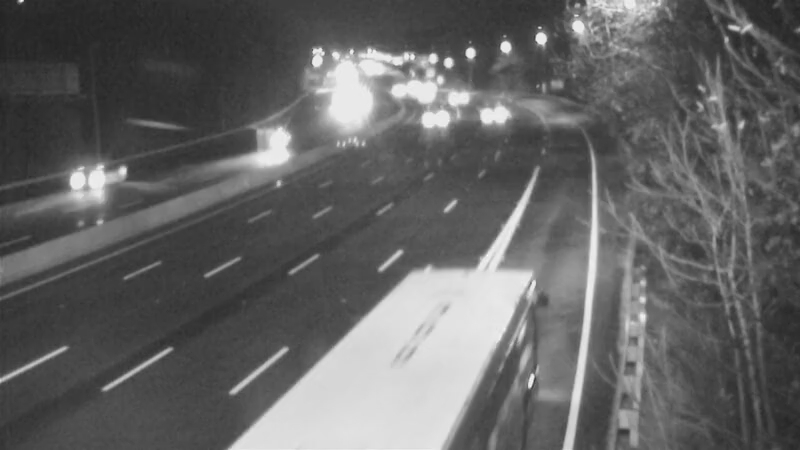vehicle: (328, 335, 438, 445), (45, 140, 125, 220), (376, 68, 426, 118), (398, 69, 448, 119), (429, 72, 479, 122), (466, 90, 516, 140), (406, 92, 456, 142), (247, 111, 297, 161)
